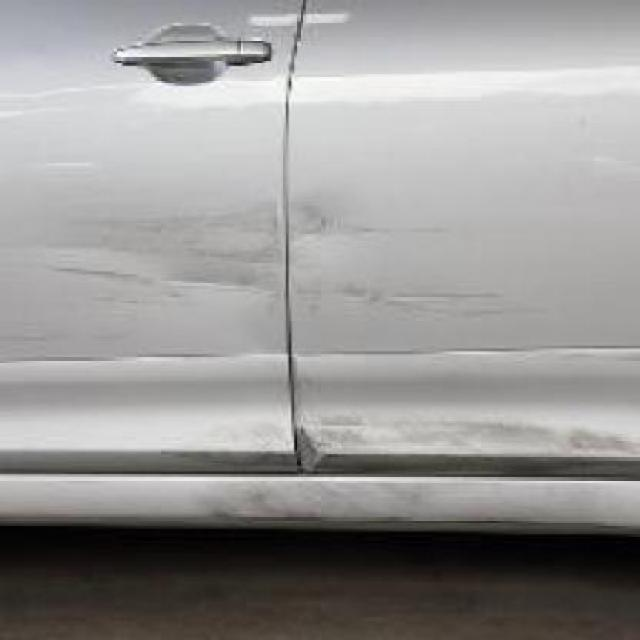dent-or-scratch: (2, 194, 638, 466)
